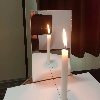fire: (63, 29, 68, 51)
